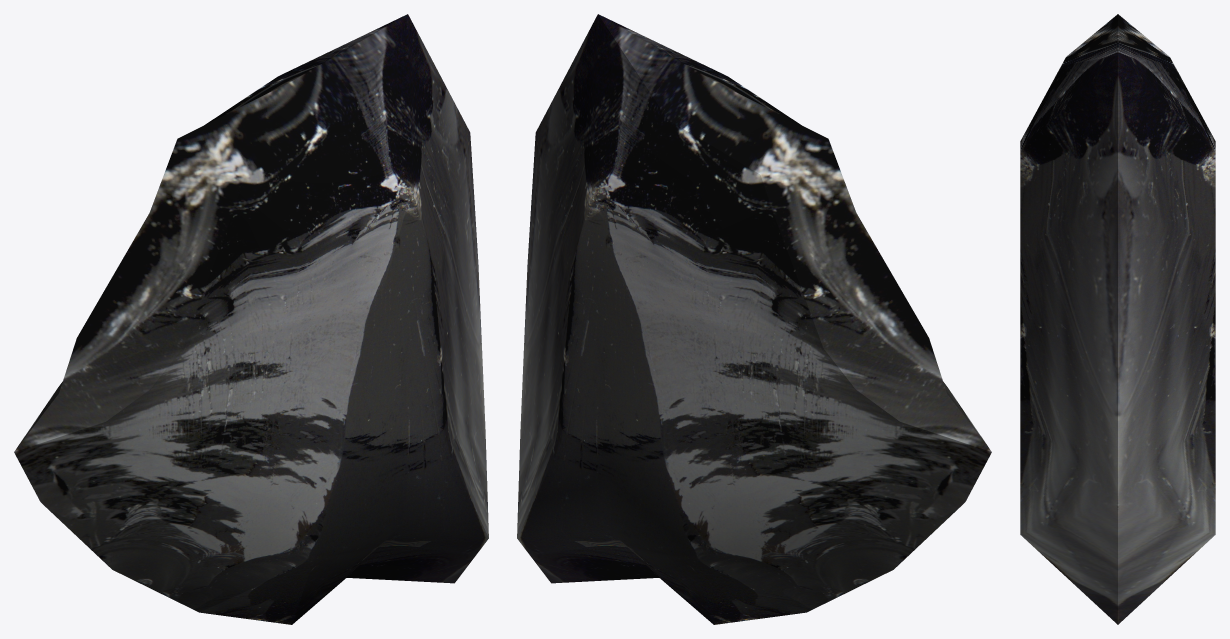
File: Obsidian updated.fbx
3 views of the same model, side by side, from view 1: azimuth 30°, elevation 25°; view 2: azimuth 150°, elevation 25°; view 3: azimuth 270°, elevation 25° (orthographic). The views are drawn at different scales.
Visible parts, largest first — view 1: Obsidian; view 2: Obsidian; view 3: Obsidian.
Part boxes in pixels (x1=…): Obsidian: x1=14, y1=14, x2=488, y2=624; Obsidian: x1=517, y1=14, x2=991, y2=624; Obsidian: x1=1020, y1=14, x2=1215, y2=624.
Size of the model in its own units: 371 by 438 by 141.
